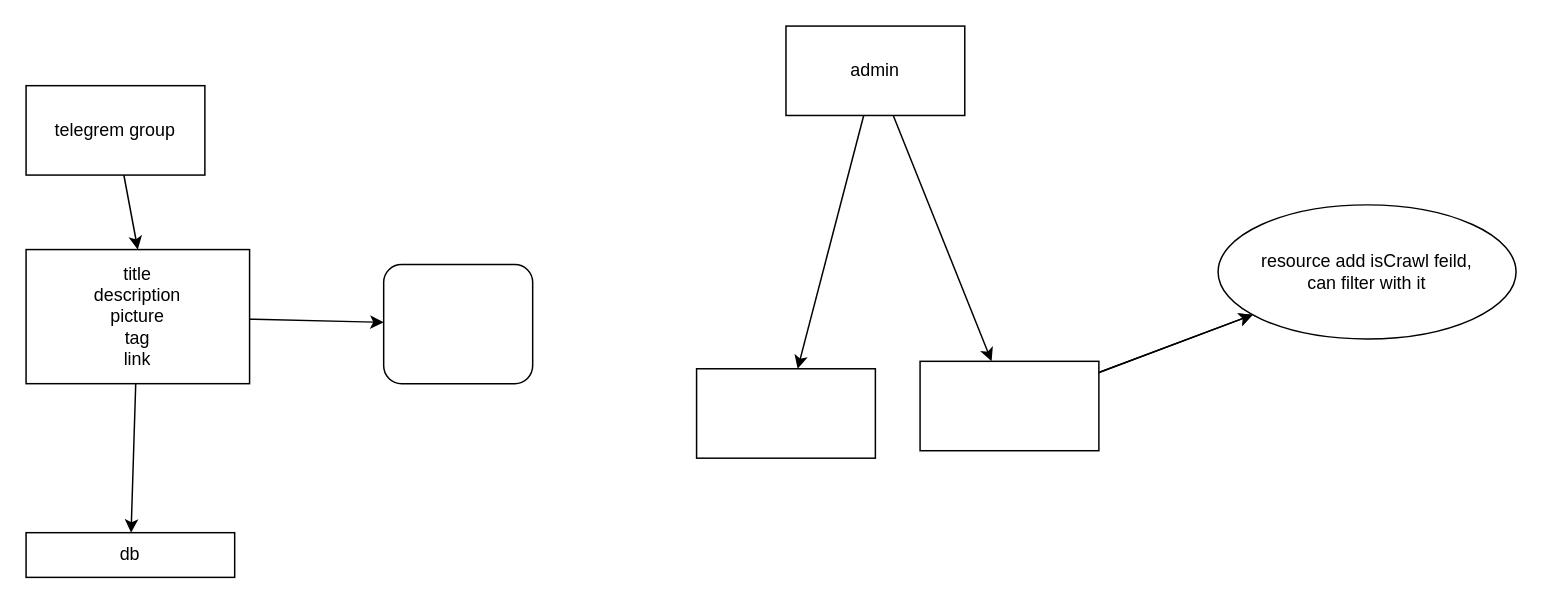
This 1542x603 diagram has some shape labels left out. The shapes that lost their labels are listed below. From the top down, each one's centre as x and y in pixels, then its label:
At [457,323]: "picture store in qiniu".
At [785,412]: "query edit and publish to client".
At [1009,405]: "auto publish to resource".
